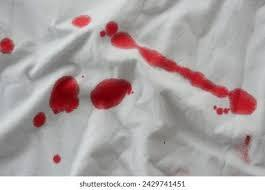blood: (144, 50, 257, 116), (90, 78, 133, 108), (51, 76, 79, 114), (105, 23, 138, 50), (1, 37, 15, 54), (32, 113, 47, 128), (73, 16, 89, 27), (52, 154, 61, 164)
